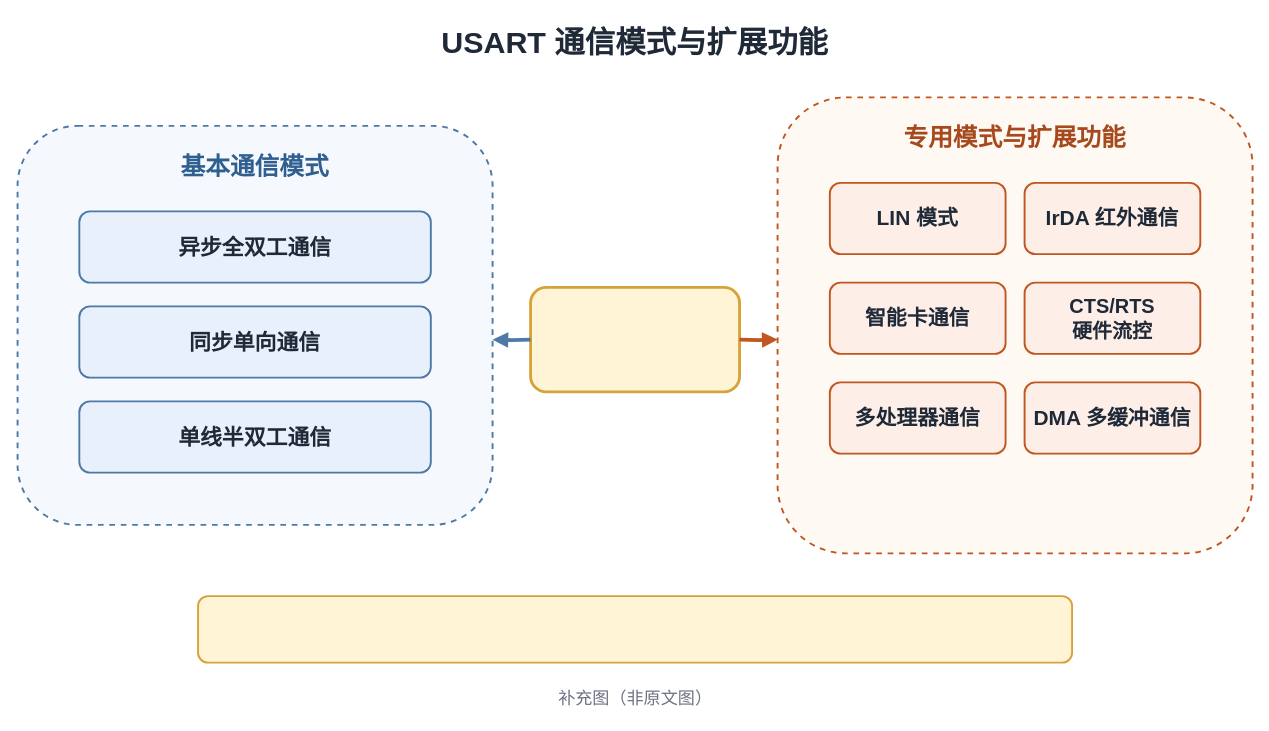
Image size: 1269x731. Some labels were removed from this diagram. The shapes that lost their labels are listed below. From the top down, each one's box as (x1, y1, x2, y2) in pixels, then its label:
(529, 285, 741, 393): USART
(197, 595, 1073, 663): 前 3 项是基本通信模式；右侧项目是专用模式或辅助功能。
